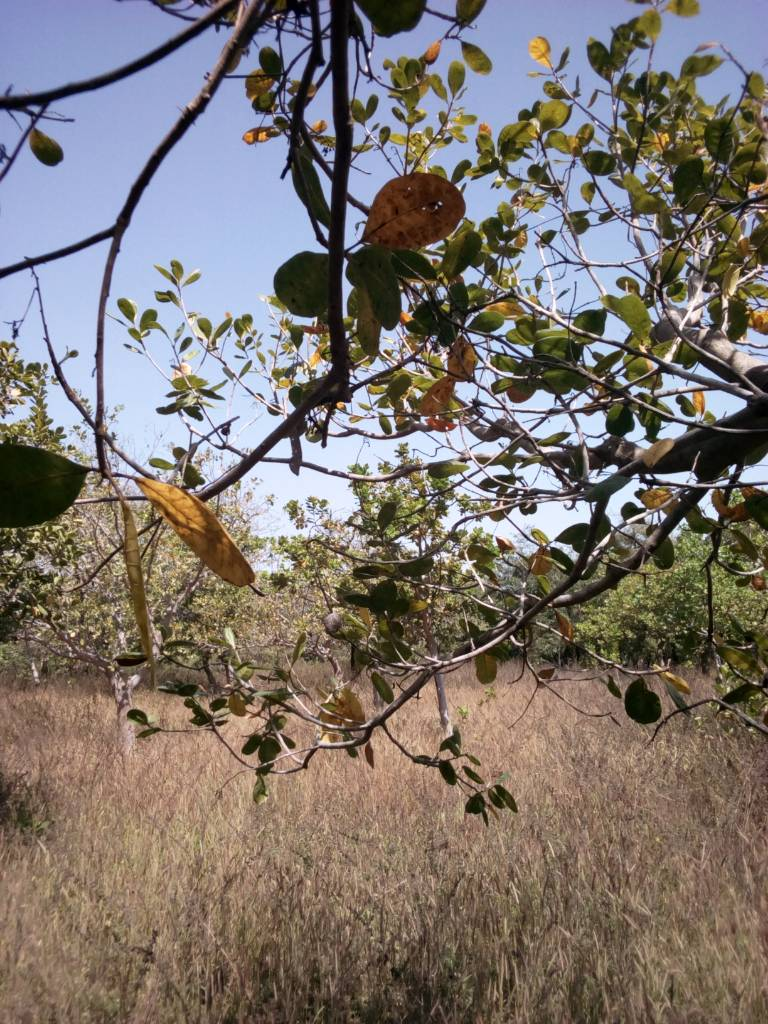Bactériose: (358, 171, 468, 253)
